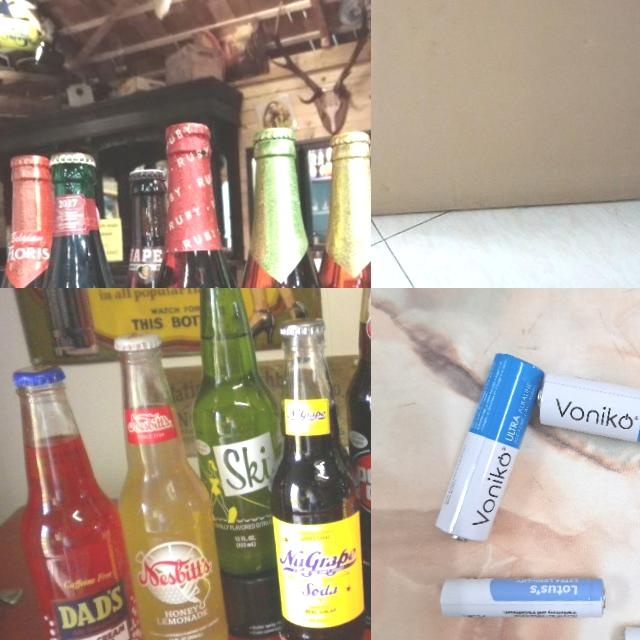bateria: (424, 352, 554, 546), (535, 360, 640, 464), (438, 568, 608, 626)
garrafa de vidro: (185, 288, 300, 640), (12, 358, 151, 640), (110, 327, 232, 640), (263, 315, 365, 640), (137, 118, 257, 288), (229, 124, 340, 288), (25, 147, 140, 288), (337, 288, 371, 638), (0, 150, 66, 288), (315, 129, 371, 288), (114, 165, 181, 288)
papelão: (371, 0, 640, 227)
